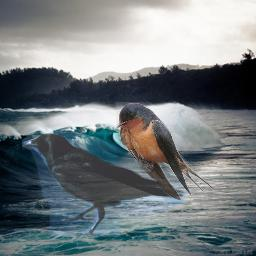Crow: (22, 129, 187, 237)
Swallow: (116, 102, 213, 200)
